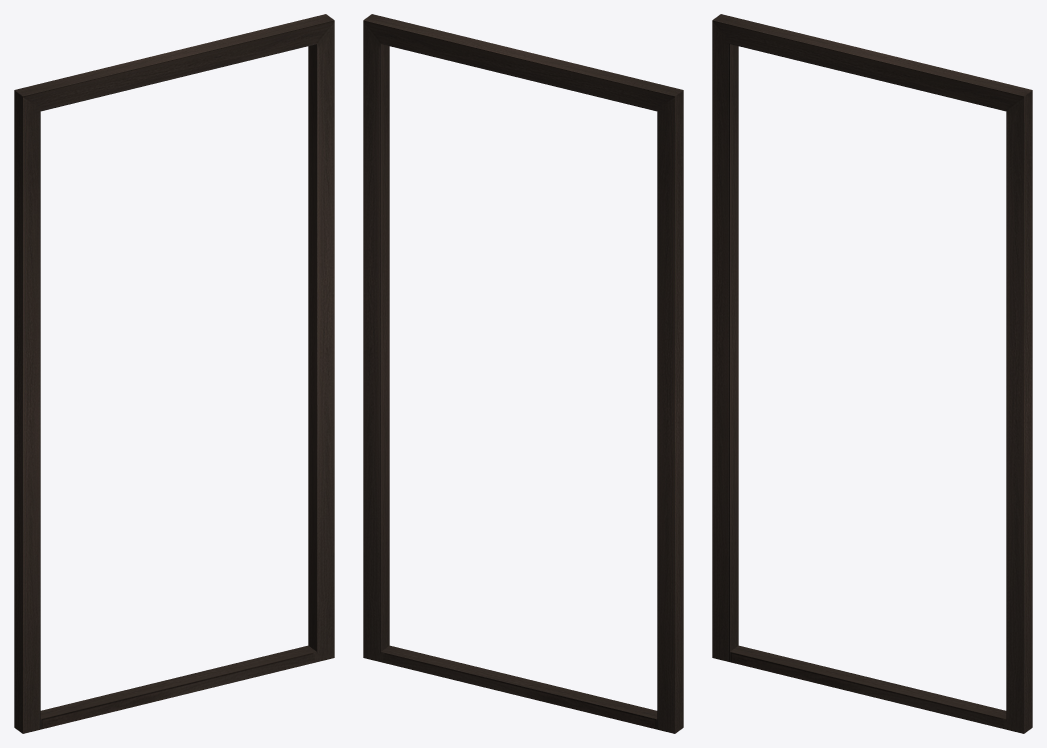
Rendered from Door06Frame.FBX.
3 views of the same model, side by side, from view 1: azimuth 30°, elevation 25°; view 2: azimuth 150°, elevation 25°; view 3: azimuth 330°, elevation 25° (orthographic).
Parts seen in each view (by area): view 1: Door06Frame; view 2: Door06Frame; view 3: Door06Frame.
Part boxes in pixels (x1,y1,x2,y2): Door06Frame: (14, 14, 334, 733); Door06Frame: (363, 14, 683, 733); Door06Frame: (712, 14, 1032, 733).
Size of the model in its own units: 44.42 by 86.76 by 2.17.
